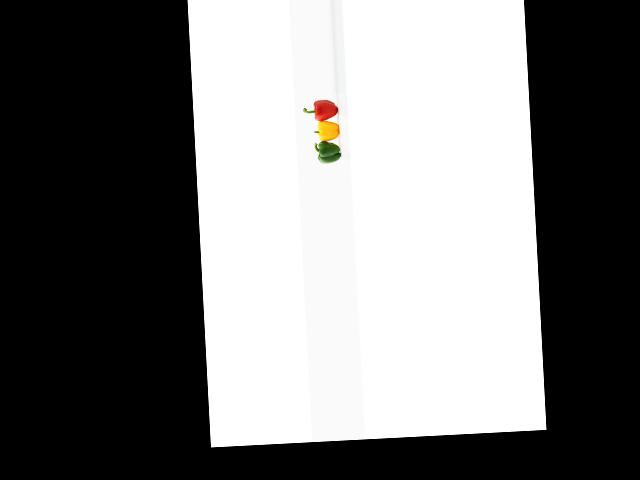bell_pepper: (300, 93, 342, 124)
